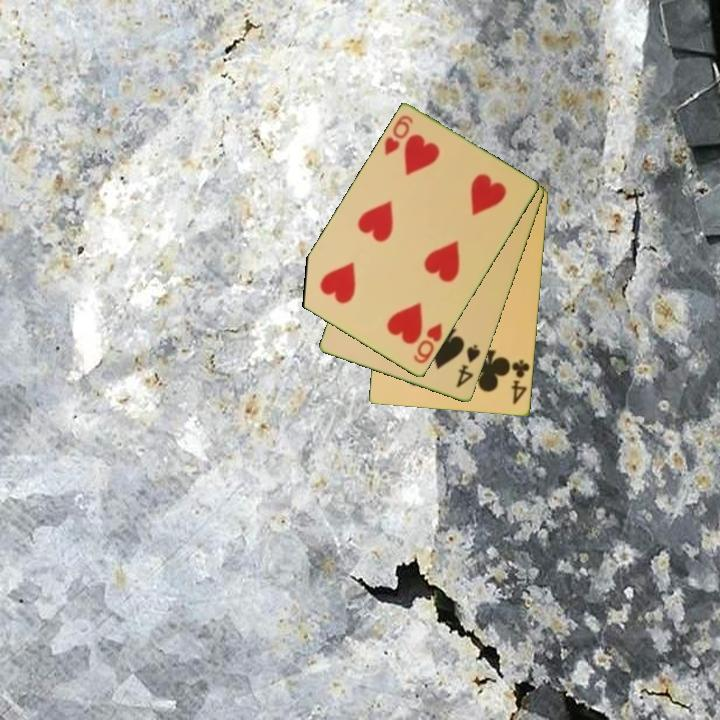4c: (508, 357, 533, 407)
4s: (453, 341, 484, 391)
6h: (409, 319, 445, 367), (381, 112, 417, 159)
